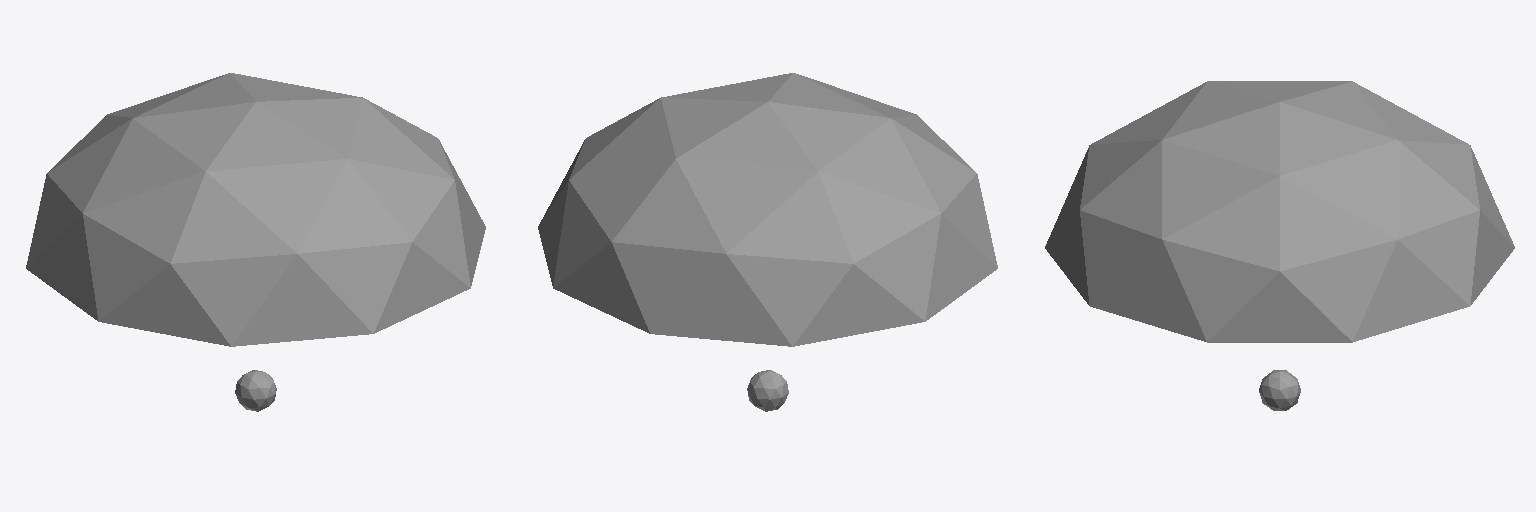
Rendered from explosionBLEND.obj.
3 views of the same model, side by side, from view 1: azimuth 30°, elevation 25°; view 2: azimuth 150°, elevation 25°; view 3: azimuth 270°, elevation 25° (orthographic).
Visible parts, largest first — view 1: smoke_musroom_small_Икосфера, Ico_Sphere_for_particle_system_Икосфера.003; view 2: smoke_musroom_small_Икосфера, Ico_Sphere_for_particle_system_Икосфера.003; view 3: smoke_musroom_small_Икосфера, Ico_Sphere_for_particle_system_Икосфера.003.
Boxes of the visible parts, x1,y1,x2,y2 form: smoke_musroom_small_Икосфера: [26, 73, 485, 346]; Ico_Sphere_for_particle_system_Икосфера.003: [235, 370, 276, 411]; smoke_musroom_small_Икосфера: [538, 73, 997, 346]; Ico_Sphere_for_particle_system_Икосфера.003: [747, 370, 788, 411]; smoke_musroom_small_Икосфера: [1045, 81, 1514, 342]; Ico_Sphere_for_particle_system_Икосфера.003: [1259, 370, 1300, 410].
Bounding box in the file's own units: 2.27 × 1.73 × 2.39.